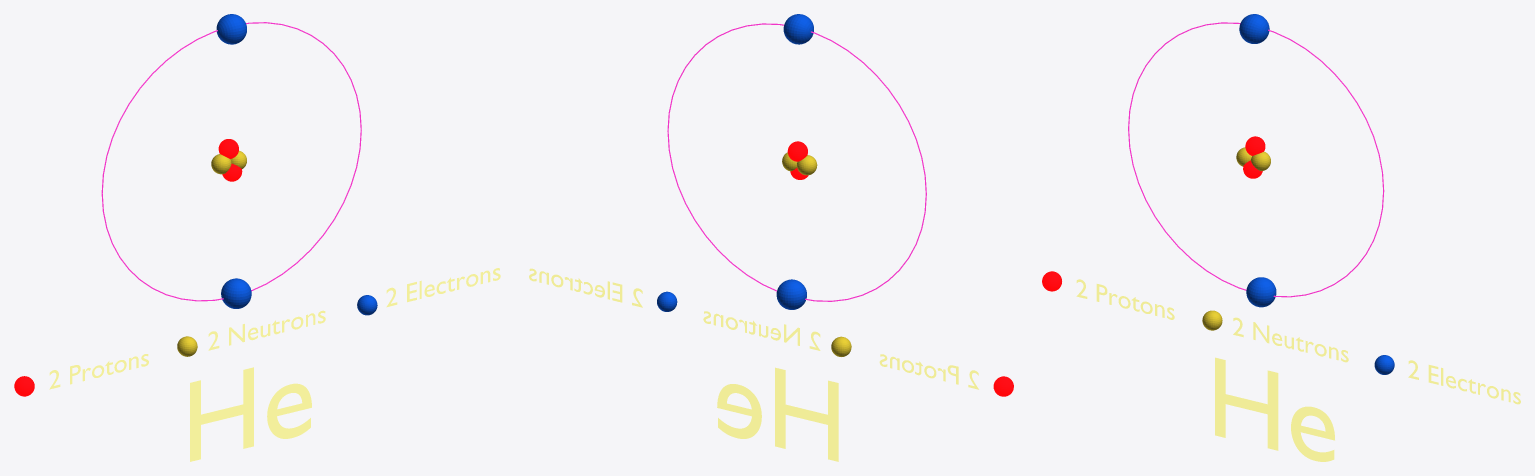
Rendered from helium.glb.
3 renders of one model, left to right at view 1: azimuth 30°, elevation 25°; view 2: azimuth 150°, elevation 25°; view 3: azimuth 330°, elevation 25°, orthographic.
Parts seen in each view (by area): view 1: Text, BézierCircle, Text.003, Text.002, Sphere.001, Sphere.002, Text.001; view 2: Text, BézierCircle, Text.003, Text.002, Sphere.002, Sphere.001, Text.001; view 3: Text, BézierCircle, Text.003, Text.002, Sphere.001, Sphere.002, Text.001.
Part boxes in pixels (x1,y1,x2,y2): Text: [190, 367, 311, 461]; BézierCircle: [101, 22, 361, 301]; Text.003: [386, 268, 500, 307]; Text.002: [208, 310, 325, 350]; Sphere.001: [221, 278, 251, 308]; Sphere.002: [216, 14, 246, 44]; Text.001: [49, 354, 148, 389]; Text: [717, 367, 838, 461]; BézierCircle: [667, 23, 926, 301]; Text.003: [529, 268, 642, 307]; Text.002: [703, 311, 820, 350]; Sphere.002: [783, 14, 813, 44]; Sphere.001: [776, 279, 806, 309]; Text.001: [879, 354, 978, 389]; Text: [1215, 357, 1334, 461]; BézierCircle: [1128, 22, 1384, 297]; Text.003: [1408, 360, 1520, 404]; Text.002: [1233, 317, 1348, 362]; Sphere.001: [1246, 277, 1276, 307]; Sphere.002: [1239, 14, 1269, 43]; Text.001: [1076, 279, 1174, 319].
Bounding box in the file's own units: 4.37 × 3.78 × 0.2588.
